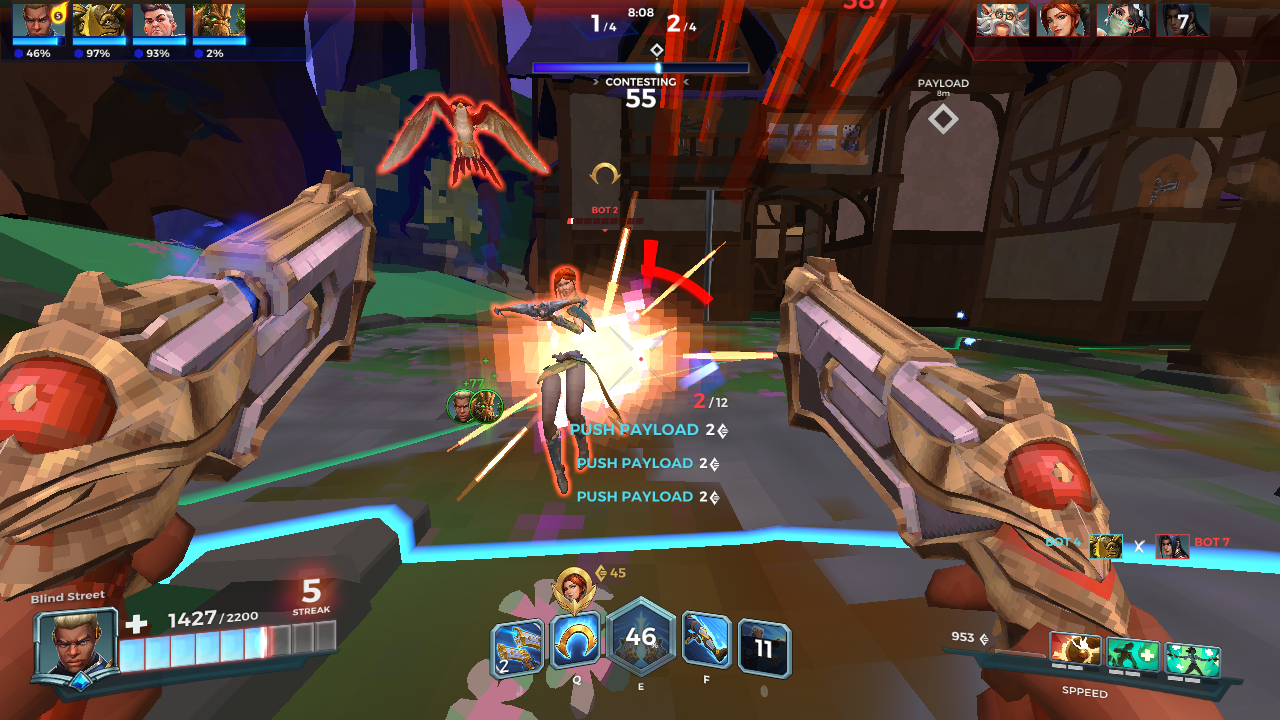model: (489, 253, 607, 498)
